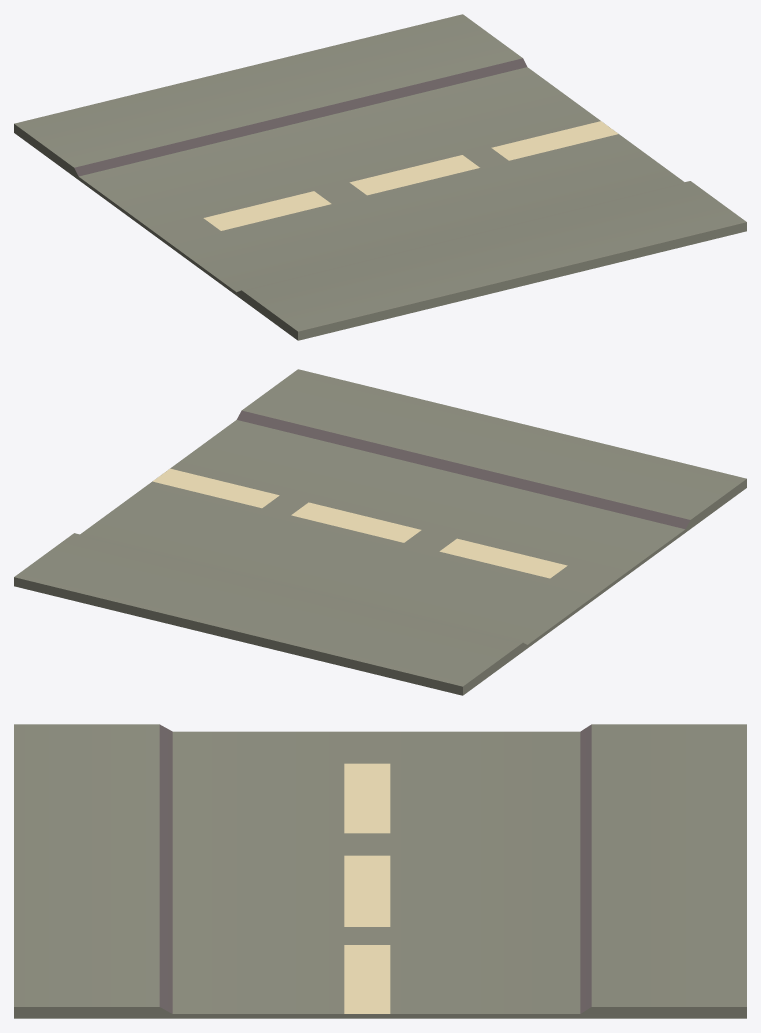
File: Road.fbx
The picture shows the model from 3 angles, top to bottom: view 1: azimuth 30°, elevation 25°; view 2: azimuth 150°, elevation 25°; view 3: azimuth 270°, elevation 25°; orthographic projection. The views are drawn at different scales.
Visible parts, largest first — view 1: pCube1; view 2: pCube1; view 3: pCube1.
Boxes of the visible parts, x1,y1,x2,y2 form: pCube1: (14,14,746,340); pCube1: (14,369,746,695); pCube1: (14,724,746,1018).
Size of the model in its own units: 493 by 9.6 by 540.
